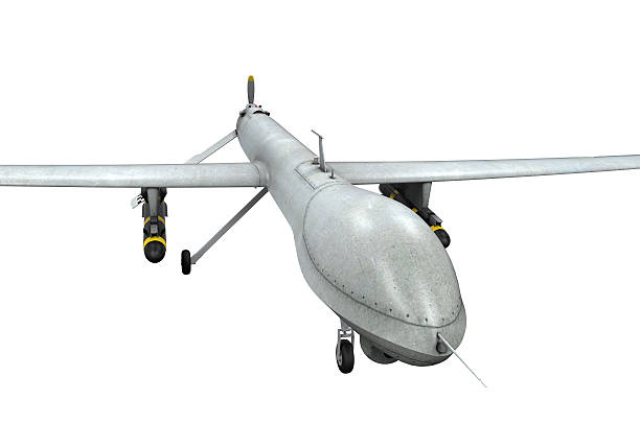military drone: (0, 74, 640, 389)
